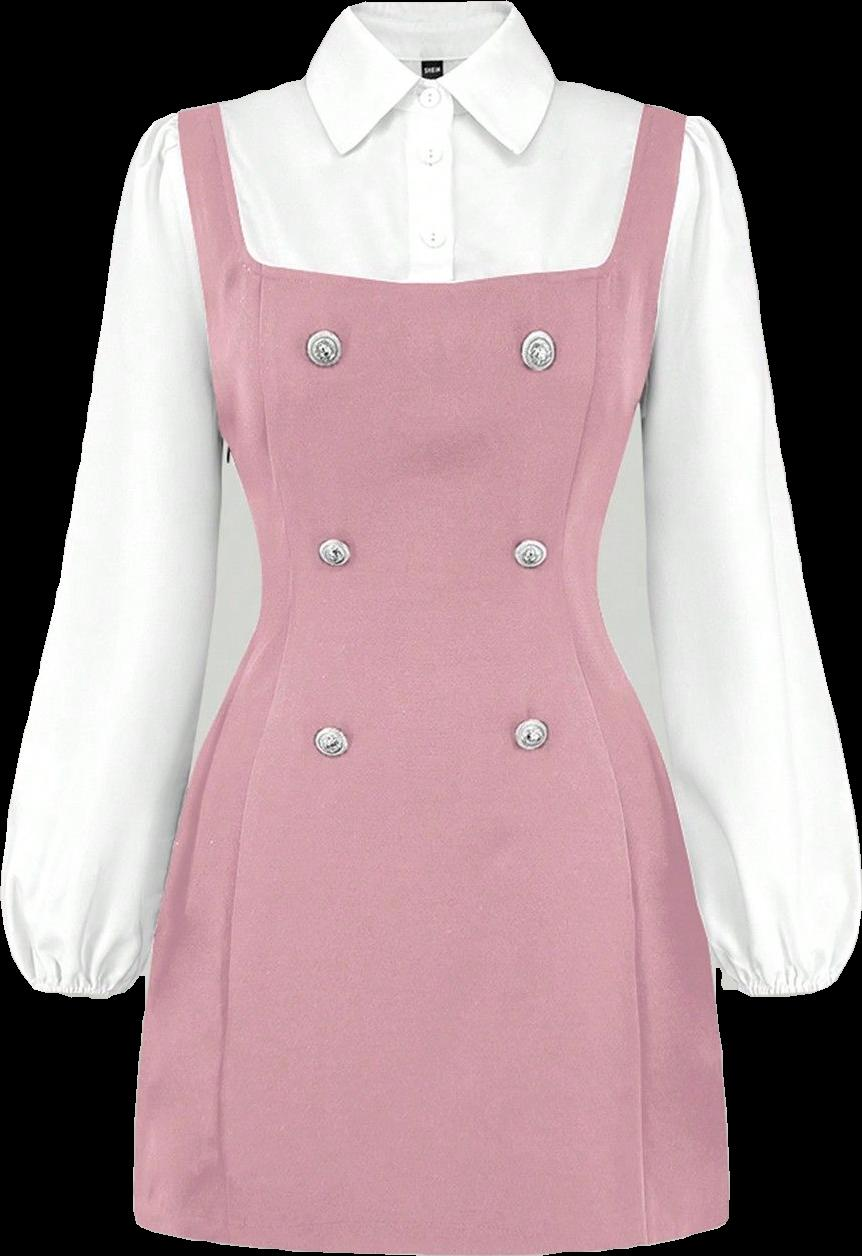Bodice: (175, 1, 686, 592)
Hemline: (130, 1211, 735, 1255)
Neckline: (214, 101, 651, 286), (348, 5, 513, 89)
Skirt: (134, 593, 729, 1255)
Sleeve: (0, 105, 229, 998), (644, 116, 861, 996)
Sleeveline: (166, 113, 232, 430), (635, 113, 701, 406)
